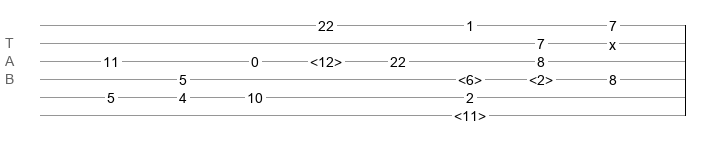0: (251, 54, 259, 64)
1: (466, 18, 474, 28)
10: (247, 90, 263, 100)
11: (103, 54, 119, 64)
2: (466, 90, 474, 100)
22: (318, 18, 334, 28), (390, 54, 406, 64)
4: (179, 90, 187, 100)
5: (107, 90, 115, 100), (179, 72, 187, 82)
7: (537, 36, 545, 46), (609, 18, 617, 28)
8: (537, 54, 545, 64), (609, 72, 617, 82)
harmonic: (310, 54, 342, 64), (454, 108, 486, 118), (458, 72, 482, 82), (529, 72, 553, 82)
x: (609, 37, 616, 45)
